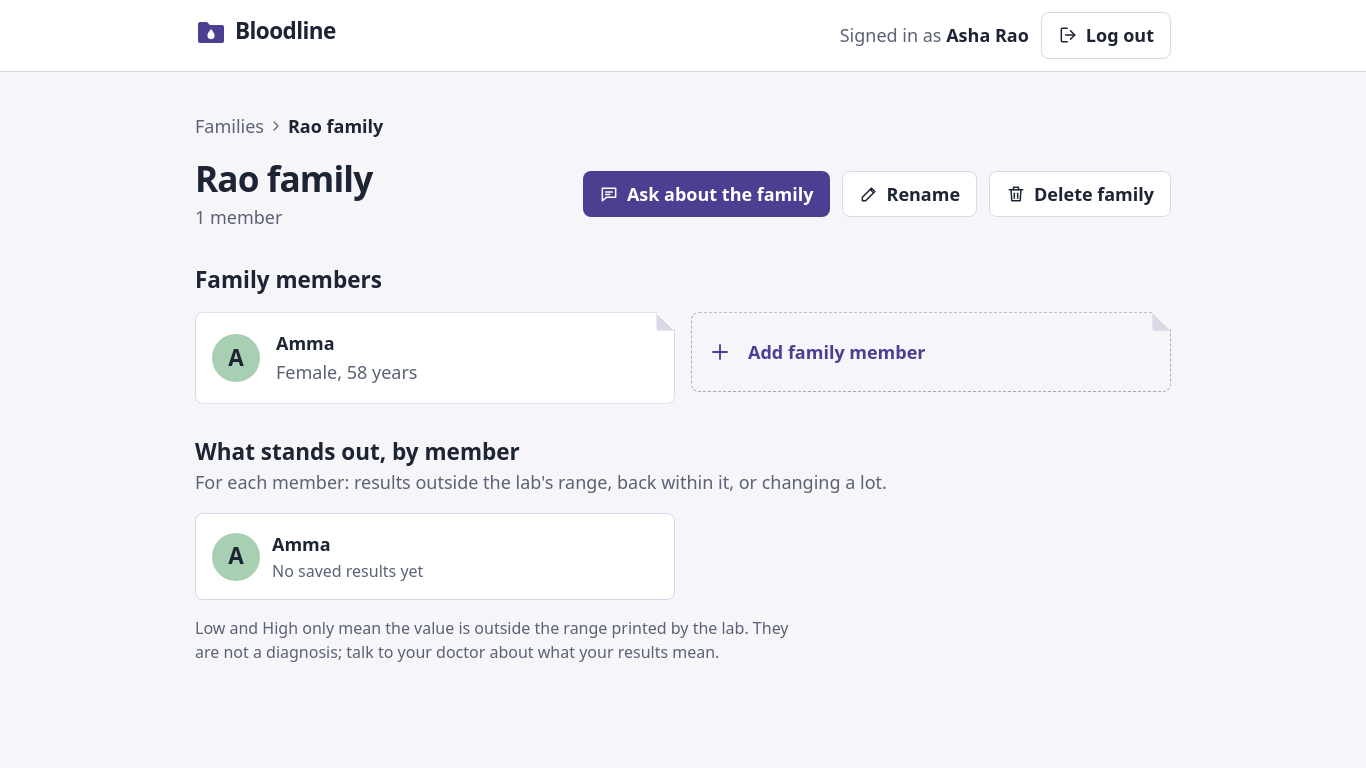
it: members of a family › need a name and a sex, and a date of birth in the past
Step 1. Click the button "Add family member" → x=931, y=352, box [691, 312, 1171, 392]
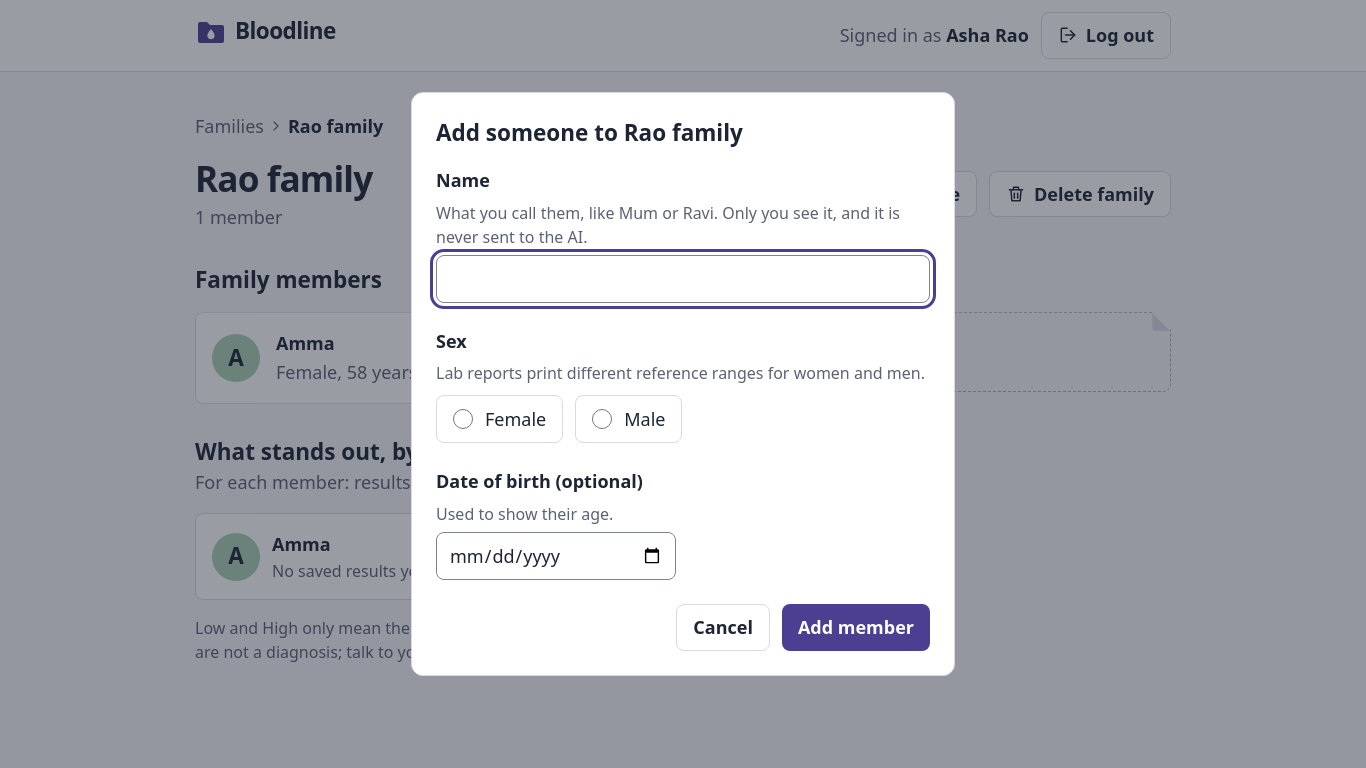
Step 2. Type "2026-09-30" into the date field labelled "Date of birth (optional)" → x=556, y=556, box [436, 532, 676, 580]
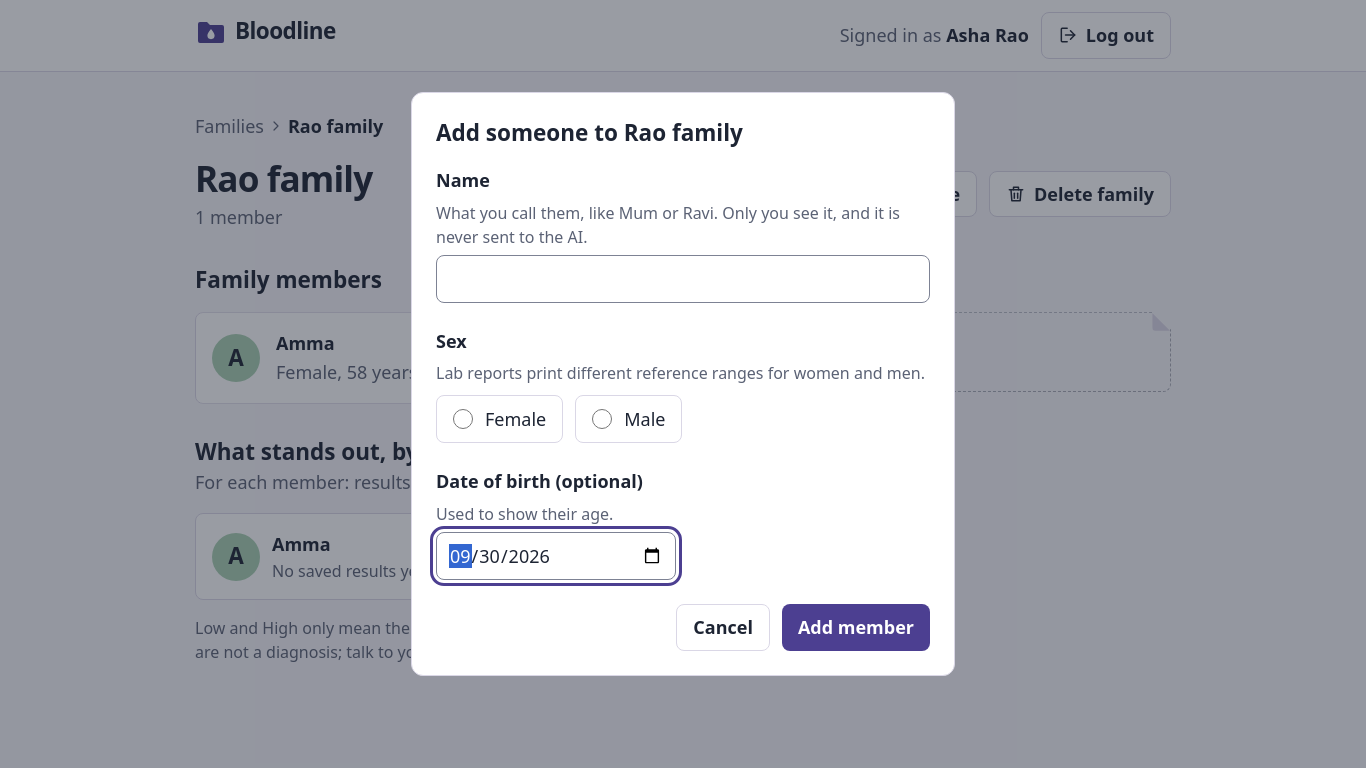
Step 3. Click the button "Add member" → x=856, y=628, box [782, 604, 930, 651]
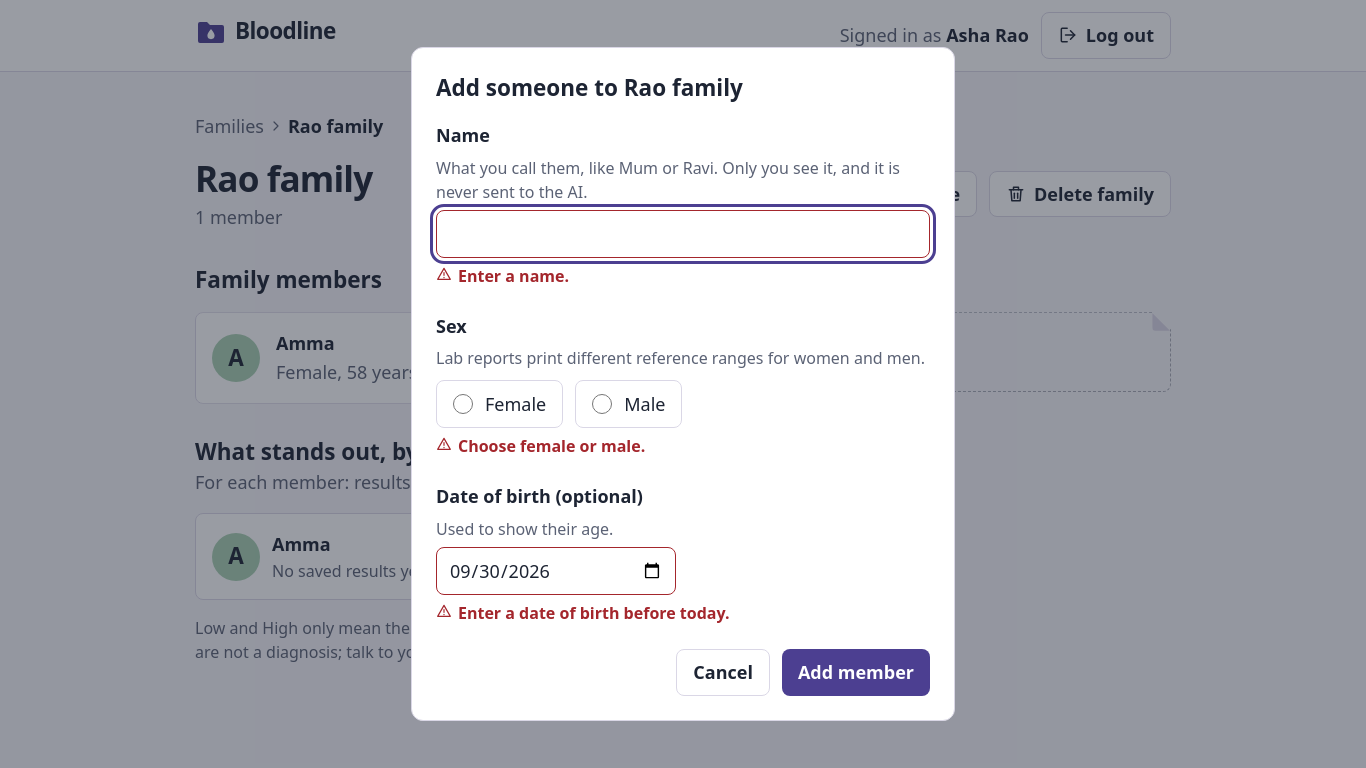
Expected: the text "Enter a name." is shown, [436, 264, 569, 286]
Expected: the text "Enter a date of birth before today." is shown, [436, 602, 730, 624]
